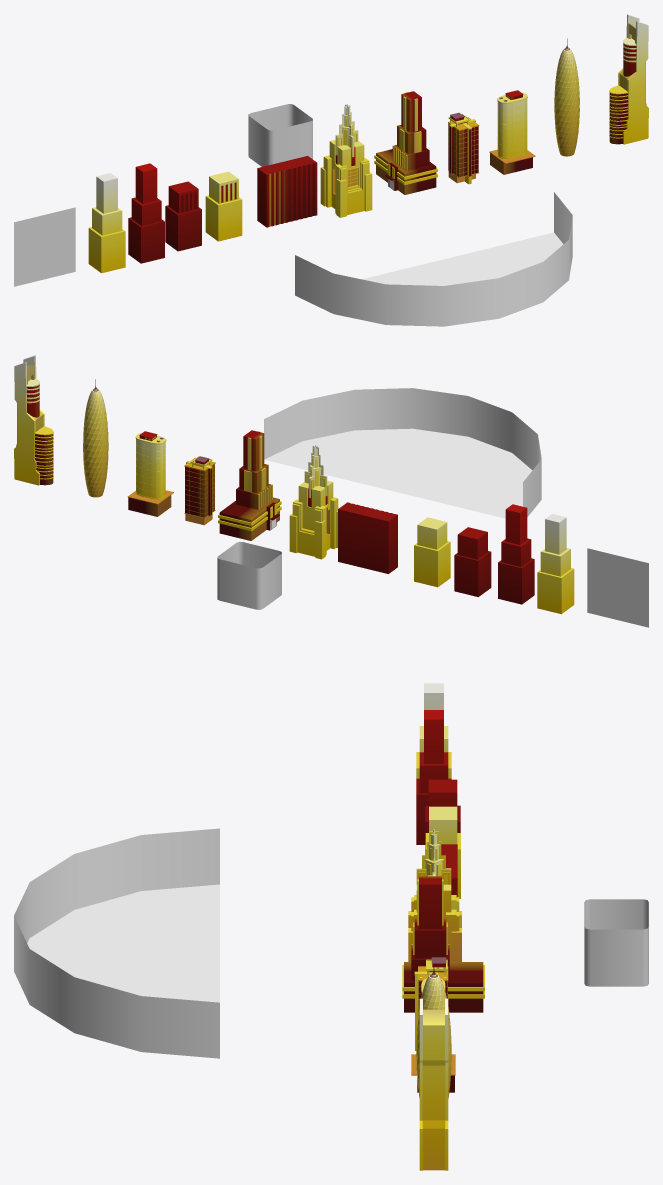
File: assets_t5_a5.fbx
3 views of the same model, one above another, from view 1: azimuth 30°, elevation 25°; view 2: azimuth 150°, elevation 25°; view 3: azimuth 270°, elevation 25° (orthographic). The views are drawn at different scales.
Parts seen in each view (by area): view 1: ground_t5_era5, Asset12, Asset6, Asset1, Asset5, Asset7, godray_t5_era5, Asset11, Asset10, Asset3, Asset2, Asset8 (+2 smaller); view 2: ground_t5_era5, Asset12, Asset5, Asset1, Asset6, godray_t5_era5, Asset7, Asset11, Asset10, Asset3, Asset2, Asset9 (+2 smaller); view 3: ground_t5_era5, godray_t5_era5, Asset5, Asset1, Asset6, Asset10, Asset8, Asset2, Asset9, Asset11, Asset4.
Part boxes in pixels (bbox=[...]): ground_t5_era5: bbox=[295, 192, 572, 326]; Asset12: bbox=[14, 207, 75, 286]; Asset6: bbox=[320, 104, 372, 217]; Asset1: bbox=[609, 14, 648, 144]; Asset5: bbox=[374, 91, 437, 194]; Asset7: bbox=[257, 156, 317, 227]; godray_t5_era5: bbox=[248, 104, 312, 166]; Asset11: bbox=[88, 173, 125, 273]; Asset10: bbox=[128, 163, 164, 263]; Asset3: bbox=[489, 90, 535, 174]; Asset2: bbox=[554, 38, 579, 156]; Asset8: bbox=[205, 171, 242, 241]; ground_t5_era5: bbox=[264, 388, 541, 518]; Asset12: bbox=[587, 548, 648, 627]; Asset5: bbox=[218, 430, 281, 540]; Asset1: bbox=[14, 355, 53, 485]; Asset6: bbox=[289, 445, 338, 559]; godray_t5_era5: bbox=[217, 542, 281, 609]; Asset7: bbox=[338, 502, 397, 573]; Asset11: bbox=[537, 514, 574, 614]; Asset10: bbox=[498, 504, 534, 604]; Asset3: bbox=[127, 431, 173, 516]; Asset2: bbox=[83, 379, 108, 497]; Asset9: bbox=[454, 527, 491, 596]; ground_t5_era5: bbox=[14, 828, 219, 1058]; godray_t5_era5: bbox=[584, 899, 648, 986]; Asset5: bbox=[402, 875, 484, 1012]; Asset1: bbox=[419, 998, 448, 1170]; Asset6: bbox=[408, 829, 461, 961]; Asset10: bbox=[416, 710, 451, 844]; Asset8: bbox=[425, 806, 460, 898]; Asset2: bbox=[416, 963, 451, 1098]; Asset9: bbox=[425, 779, 460, 854]; Asset11: bbox=[416, 683, 451, 778]; Asset4: bbox=[414, 957, 448, 1050].
Bounding box in the file's own units: 393 × 71.36 × 249.
